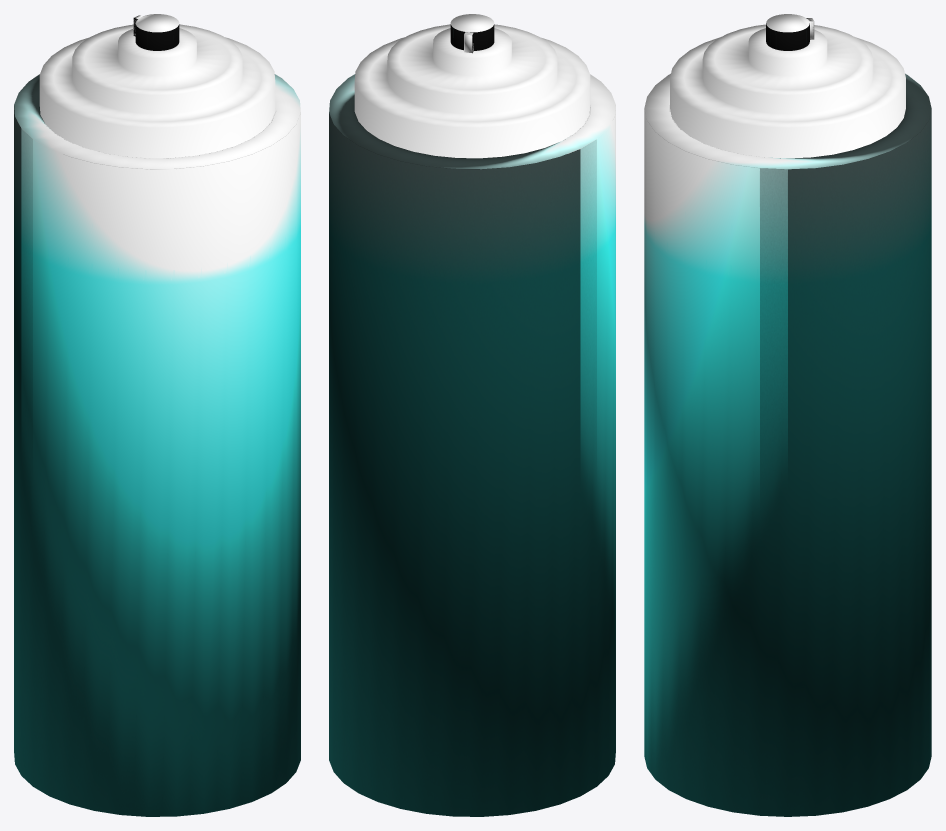
File: hairspray.glb
The picture shows the model from 3 angles, left to right: view 1: azimuth 30°, elevation 25°; view 2: azimuth 150°, elevation 25°; view 3: azimuth 270°, elevation 25°; orthographic projection.
Parts seen in each view (by area): view 1: Cylinder; view 2: Cylinder; view 3: Cylinder.
Boxes of the visible parts, x1,y1,x2,y2 form: Cylinder: [14, 14, 300, 816]; Cylinder: [329, 14, 615, 816]; Cylinder: [644, 14, 931, 816].
Size of the model in its own units: 1.5 by 4.22 by 1.5.
Materials: 3 (1 with a texture image).
